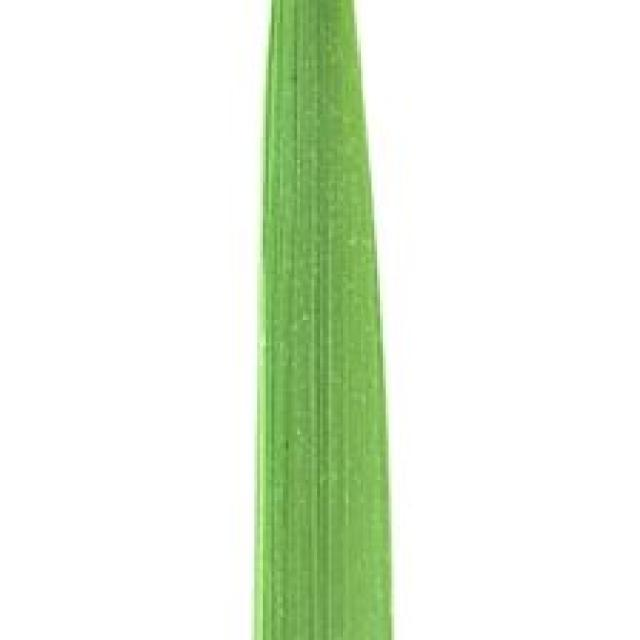Rice___Healthy_Rice_Plant: (253, 0, 395, 637)
